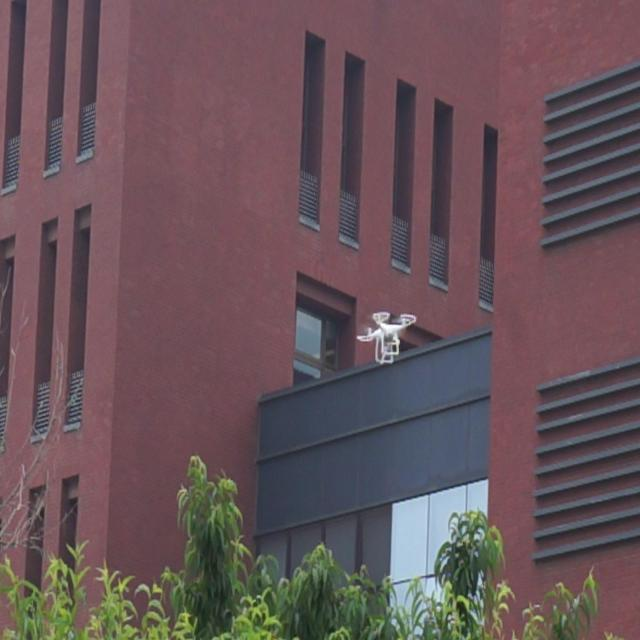UAV: (356, 310, 417, 364)
